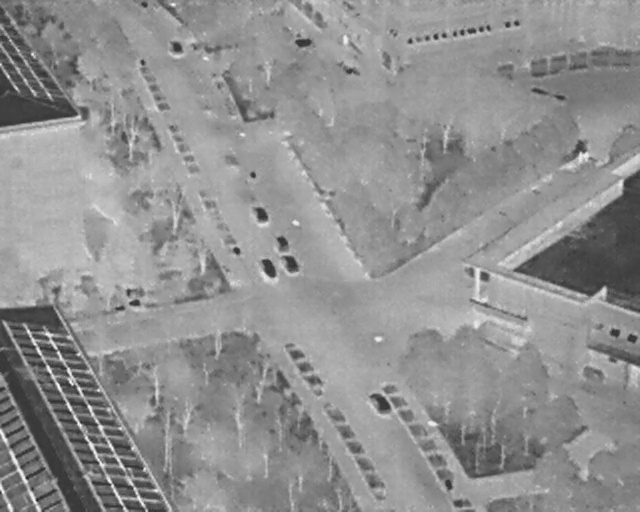Car: (369, 388, 393, 417), (281, 251, 300, 276), (260, 257, 277, 279), (252, 205, 268, 225), (275, 233, 289, 252), (171, 39, 182, 55)
